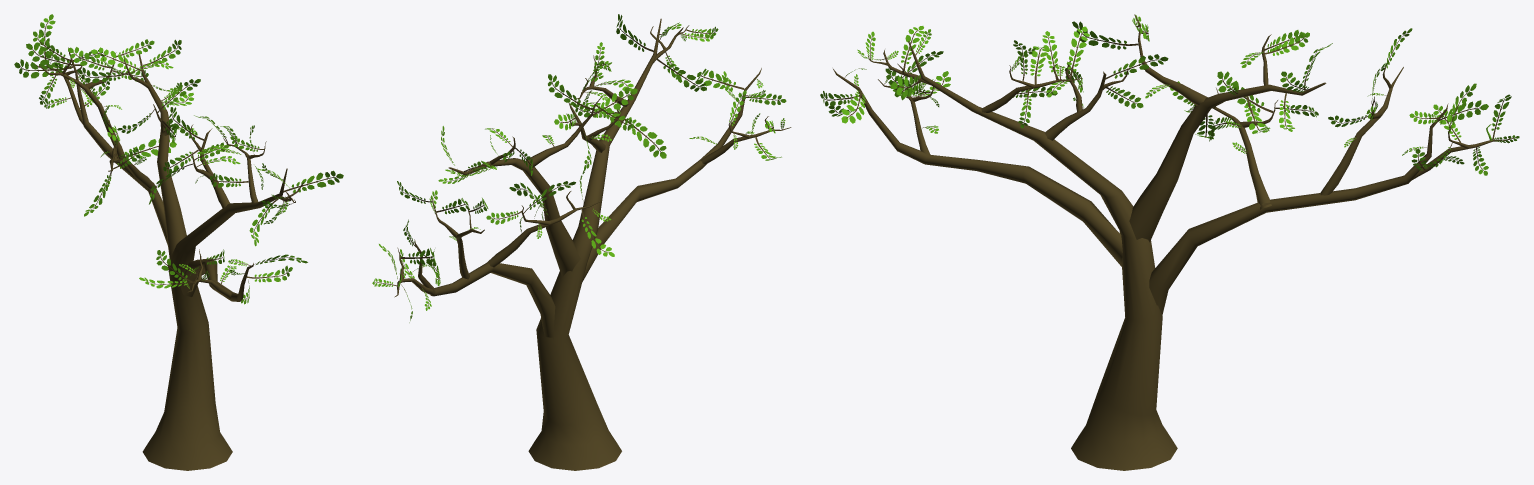
The model's file is treebase.FBX.
3 renders of one model, left to right at view 1: azimuth 30°, elevation 25°; view 2: azimuth 150°, elevation 25°; view 3: azimuth 270°, elevation 25°, orthographic. The views are drawn at different scales.
Parts seen in each view (by area): view 1: Capsule004; view 2: Capsule004; view 3: Capsule004.
Part boxes in pixels (x1=…): Capsule004: x1=14, y1=14, x2=343, y2=470; Capsule004: x1=372, y1=14, x2=791, y2=470; Capsule004: x1=820, y1=14, x2=1519, y2=470.
Size of the model in its own units: 230 by 415 by 608.
